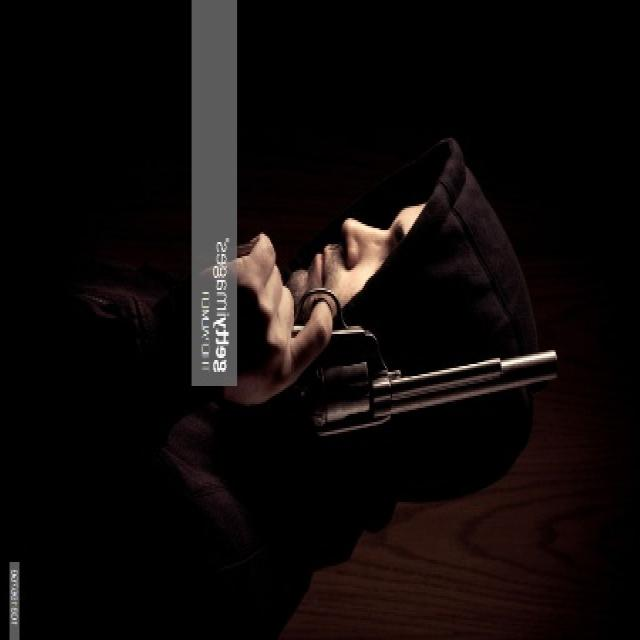handgun: (239, 245, 573, 433)
